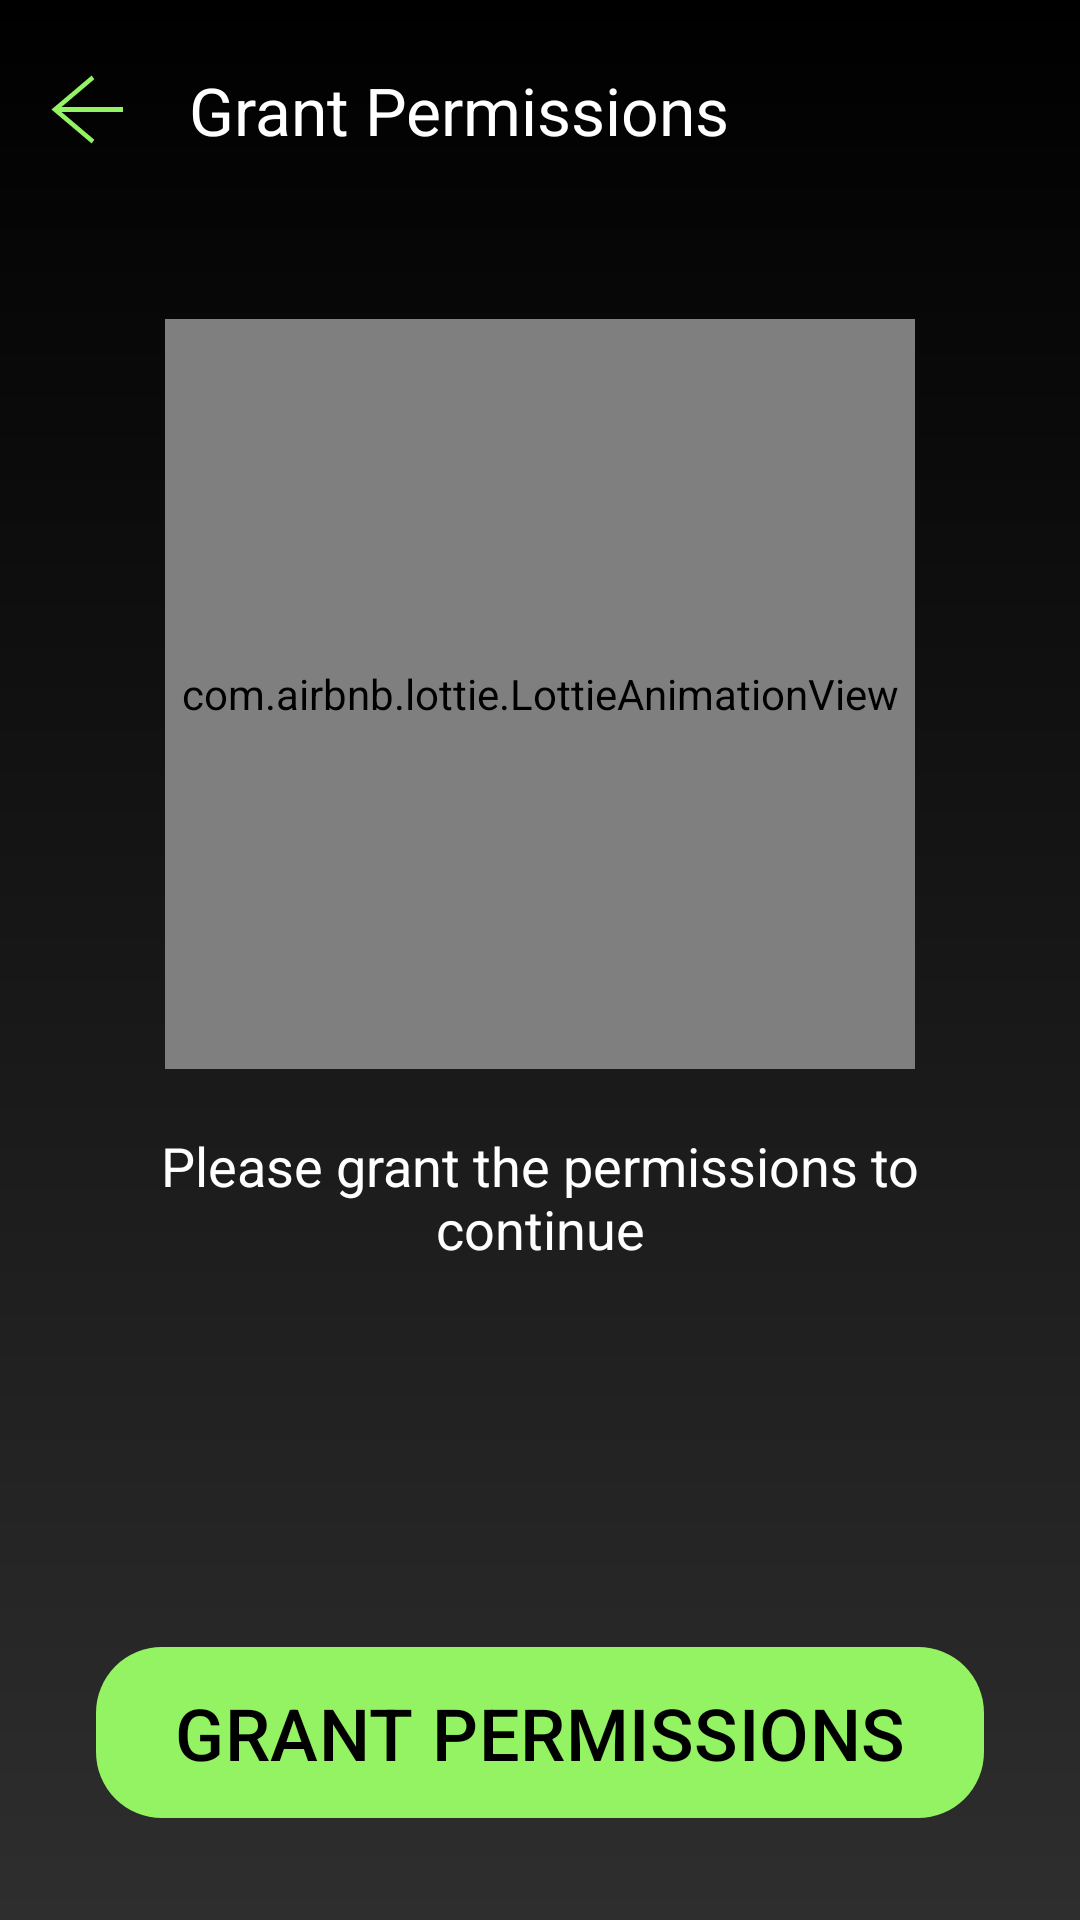

Where icons sit on this 1080*1920 app screen, as (x1, y1, x2, y2):
Back: (51, 75, 123, 144)
